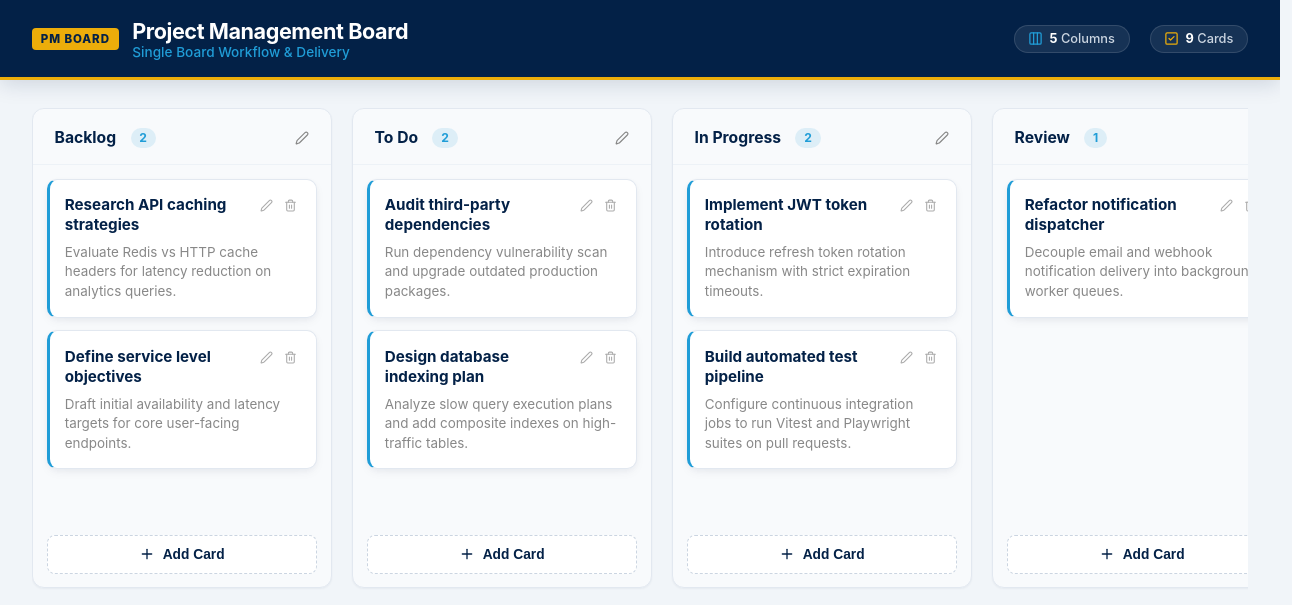
Test: KanbanBoard UI Component › allows renaming a column
Click the button with test id "rename-column-col-backlog". click: (302, 138)
box: [290, 125, 315, 150]
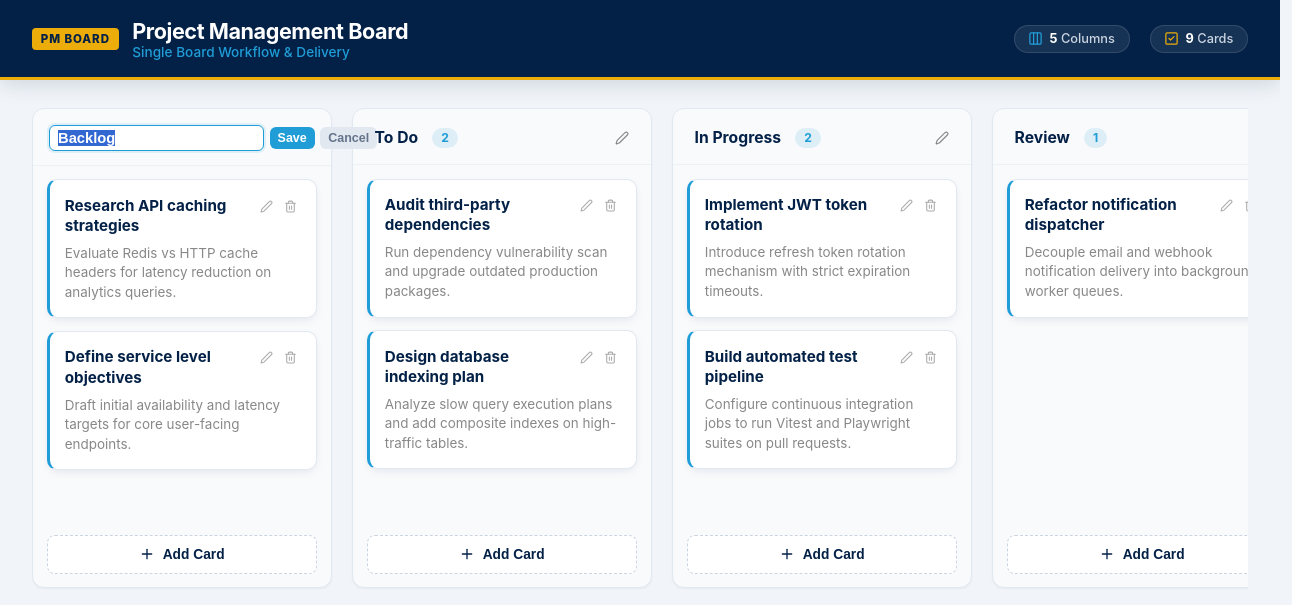
Result: the field with test id "rename-input-col-backlog" is shown
Replace the text in the field with test id "rename-input-col-backlog" with "Discovery Stage". click: (156, 138)
box: [49, 125, 264, 151]
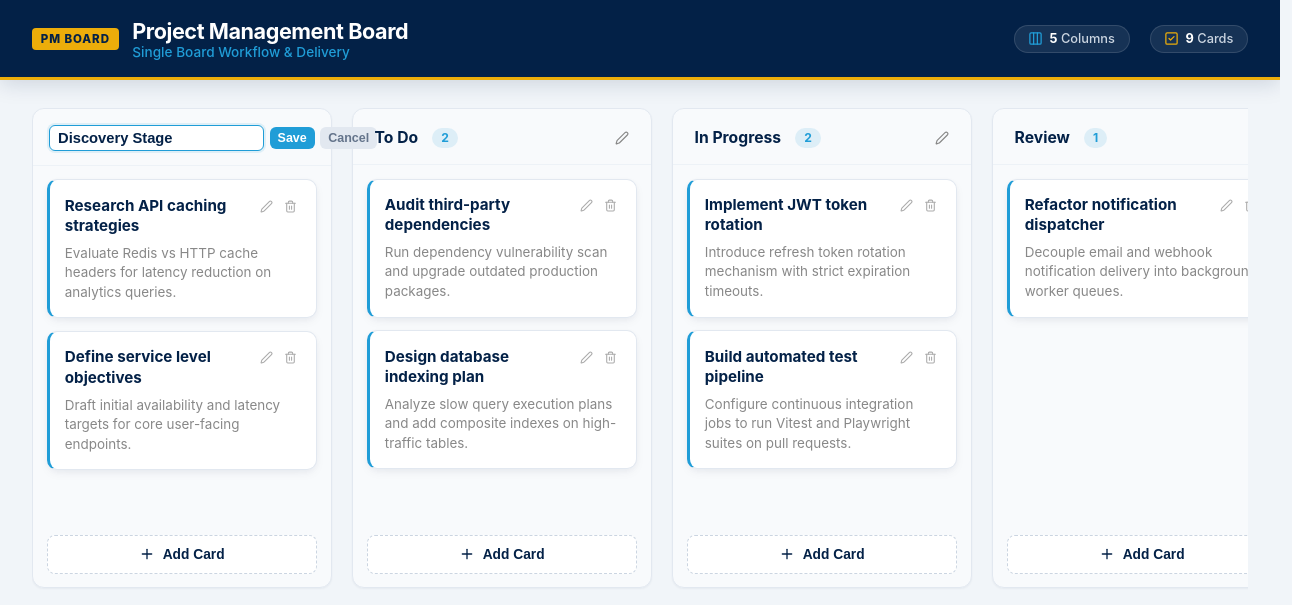
Click the button with test id "rename-save-col-backlog". click: (292, 138)
box: [270, 127, 315, 149]
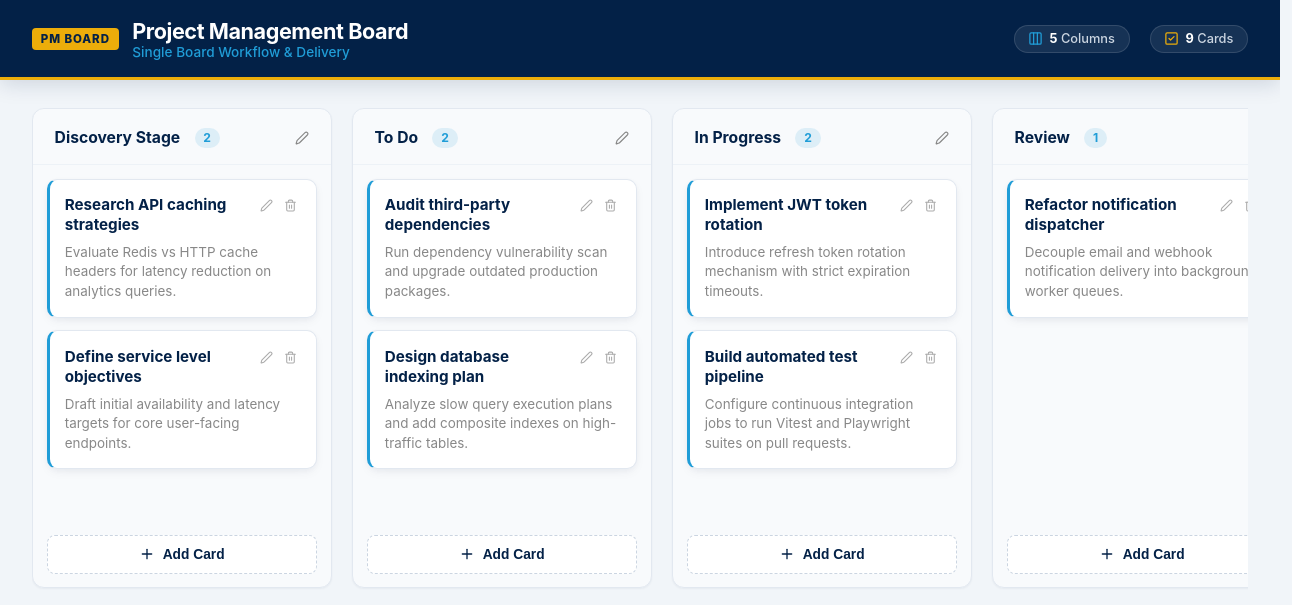
Result: the heading with test id "column-title-col-backlog" reads "Discovery Stage" at [55, 128, 180, 147]
